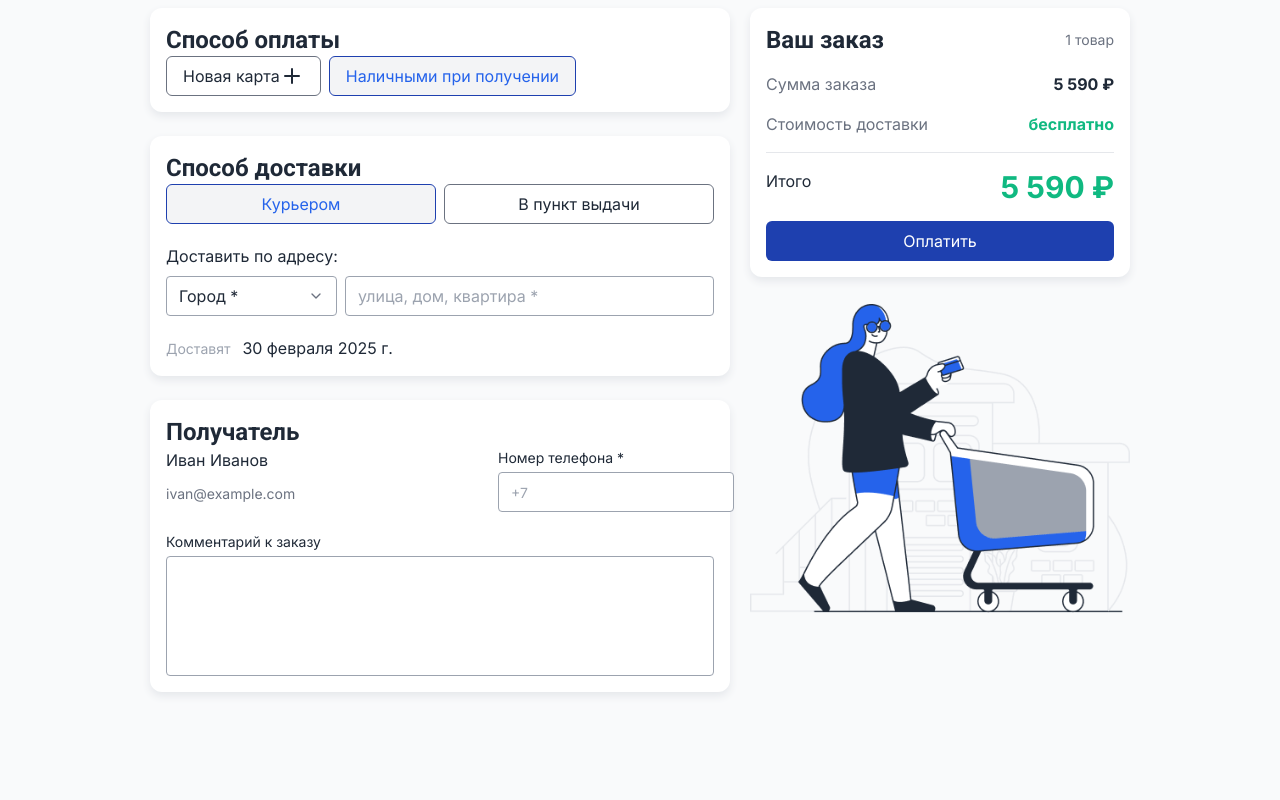
CheckoutPage › validates required fields before payment
The image size is (1280, 800).
Step 1. Click the button "Оплатить" → coordinates (940, 241), box [766,221,1114,261]
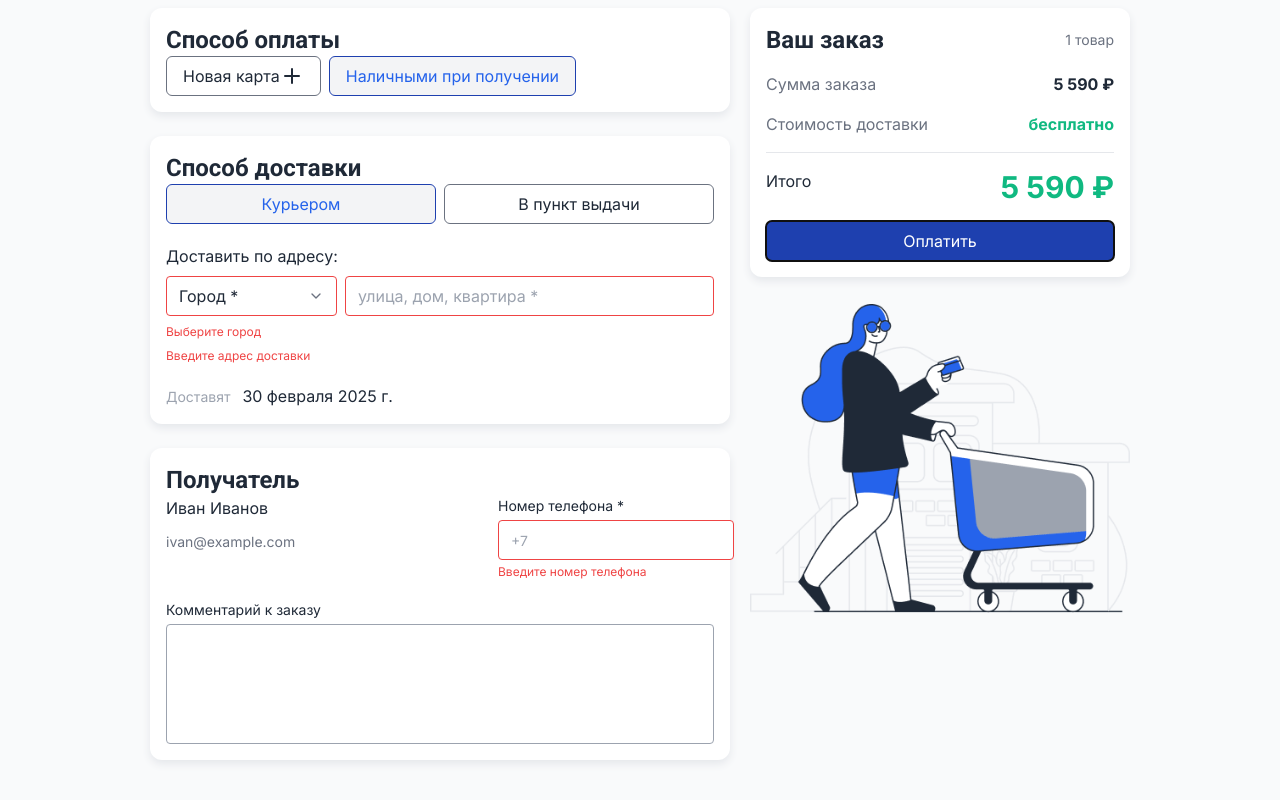
Result: the text "Выберите город" is shown at [166,324,261,339]
Result: the text "Введите адрес доставки" is shown at [166,348,310,363]
Result: the text "Введите номер телефона" is shown at [498,564,647,579]
